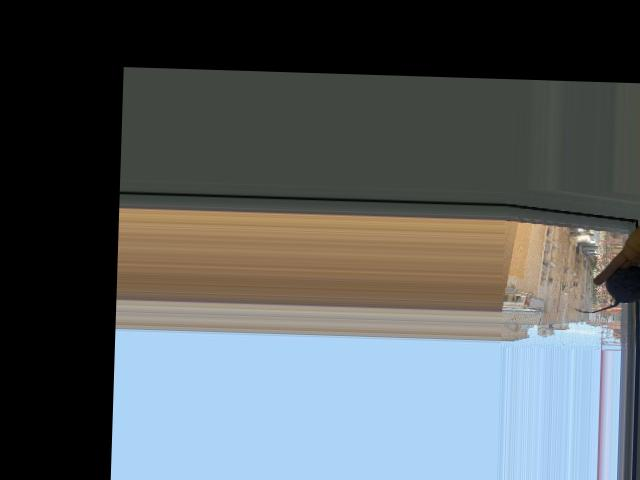beet: (572, 263, 640, 315)
